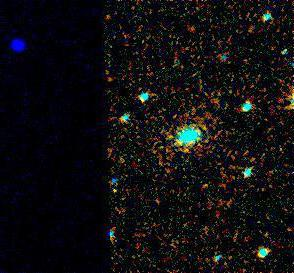star: (107, 171, 137, 201)
